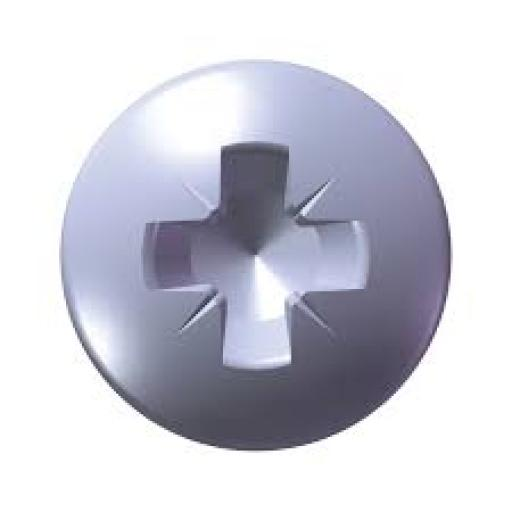Phillips: (58, 58, 448, 453)
